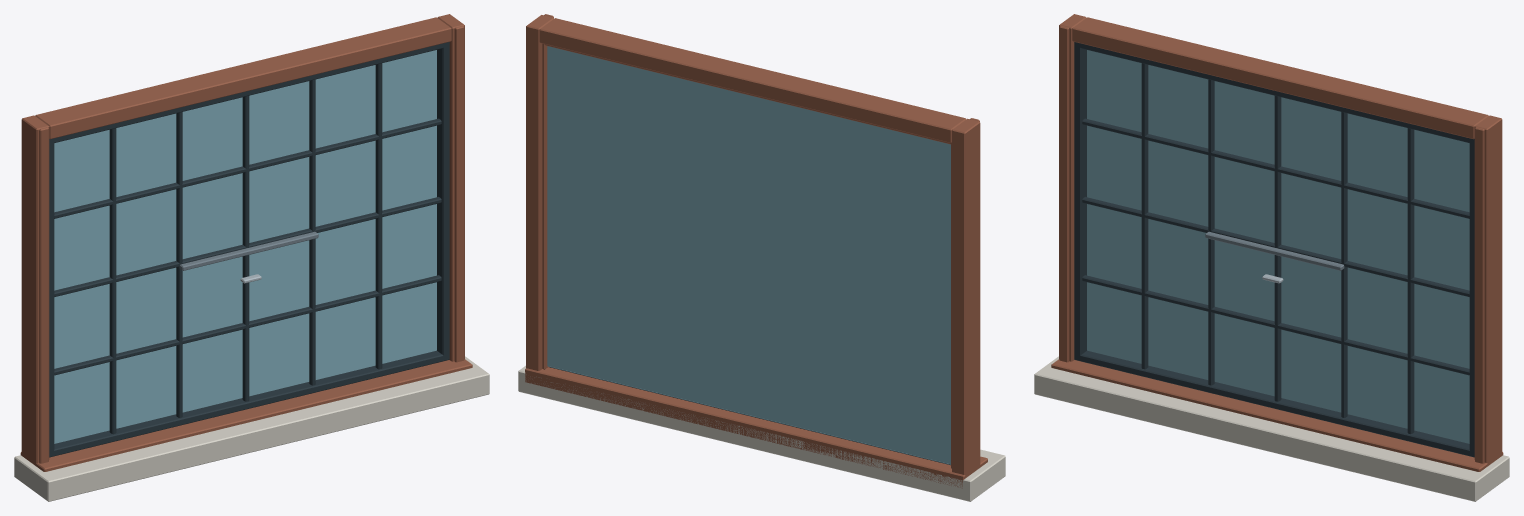
File: b12_industrial_steel_grid_window.glb
3 renders of one model, left to right at view 1: azimuth 30°, elevation 25°; view 2: azimuth 150°, elevation 25°; view 3: azimuth 330°, elevation 25°, orthographic. The views are drawn at different scales.
Parts seen in each view (by area): view 1: b12_industrial_steel_grid_window; view 2: b12_industrial_steel_grid_window; view 3: b12_industrial_steel_grid_window.
Part boxes in pixels (<box>): b12_industrial_steel_grid_window: <box>14,14,489,501</box>; b12_industrial_steel_grid_window: <box>518,14,1005,501</box>; b12_industrial_steel_grid_window: <box>1034,14,1509,501</box>.
Bounding box in the file's own units: 2.66 × 2.06 × 0.36.
